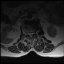CCS_normal: (30, 31, 32, 40)
LFS_stenosis: (34, 30, 35, 35)
LLS_normal: (31, 31, 33, 36)
RFS_stenosis: (26, 30, 28, 37)
RLS_normal: (28, 31, 30, 37)
